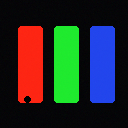0 point: (24, 96, 30, 102)
